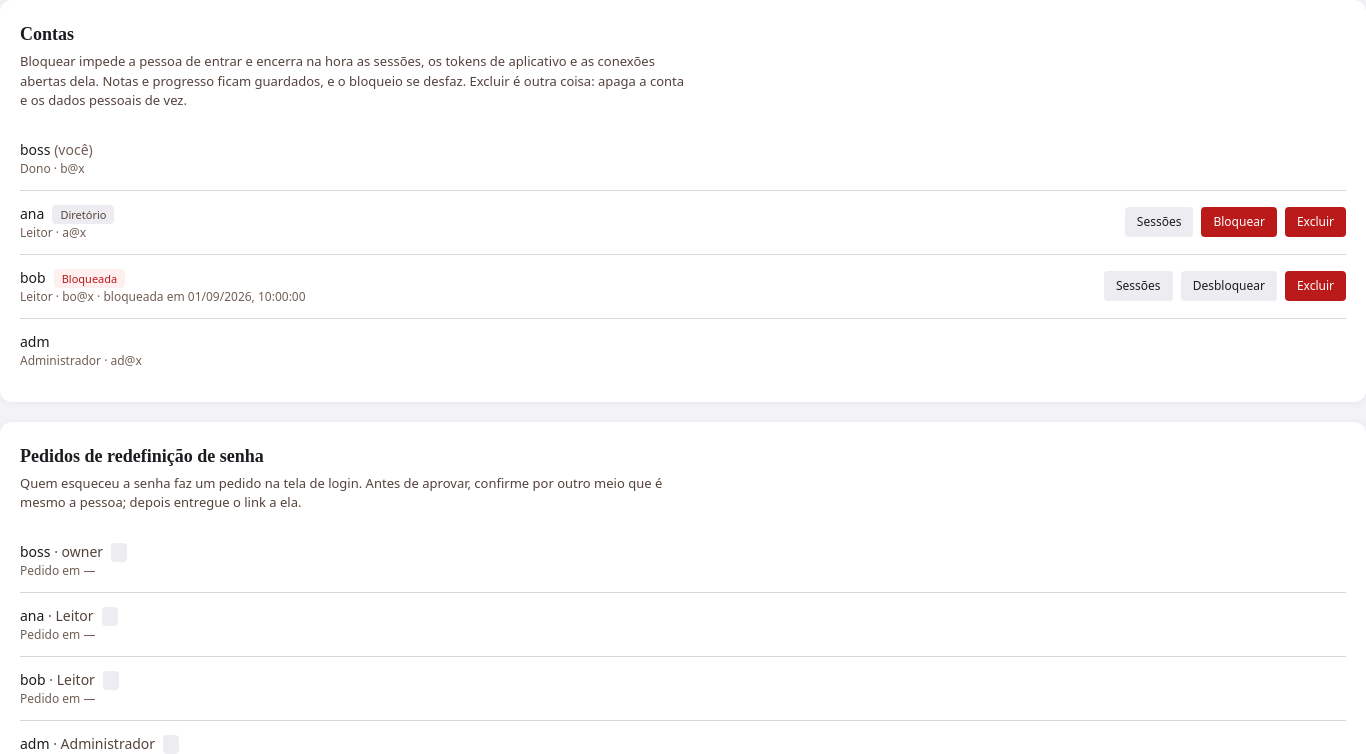
Test case: AccountsTab: the sessions of an account › ends one session after asking, saying that it does not block the person
Click the button with aria-label "Sessões de ana": coordinates (1159, 222) [1125,207,1193,237]
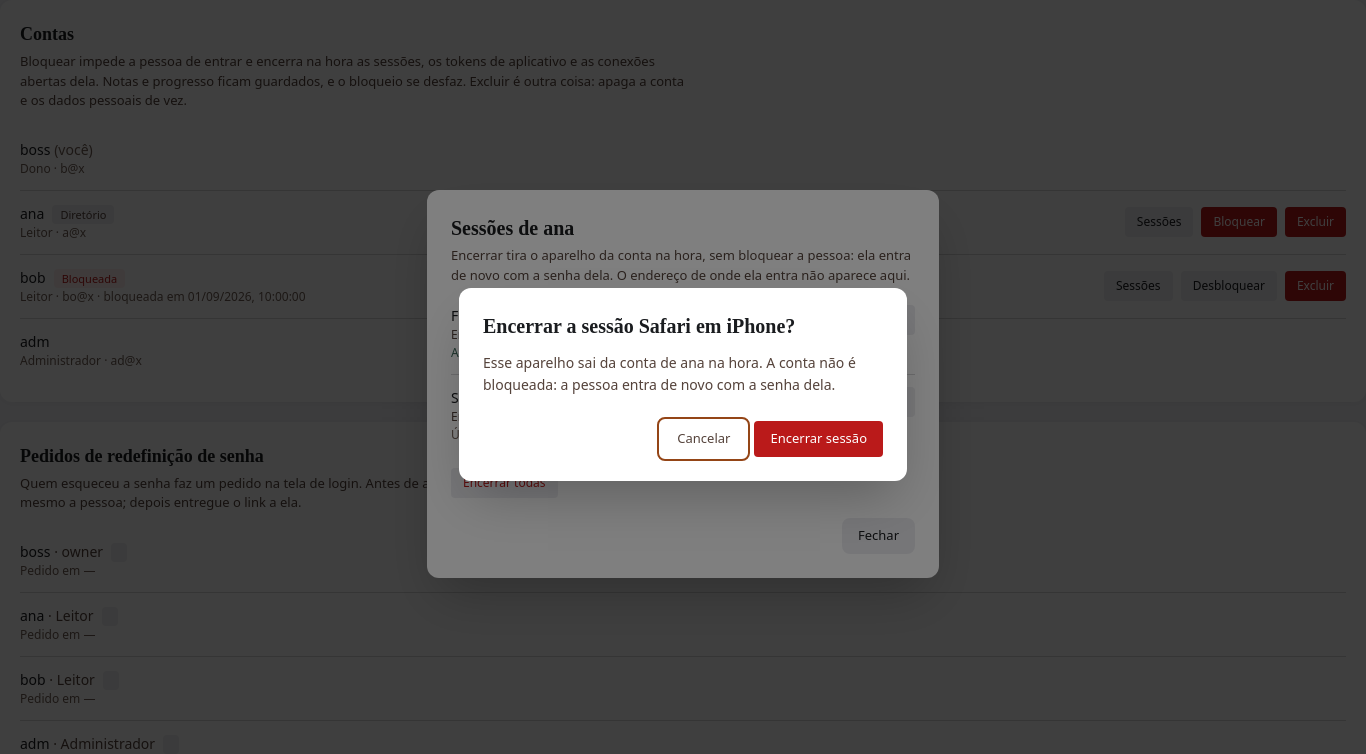
Now the dialog named "Encerrar a sessão Safari em iPhone?" shows "não é bloqueada", box [483,352,856,394]
Click the button "Encerrar sessão": coordinates (819, 439) [754,421,883,456]
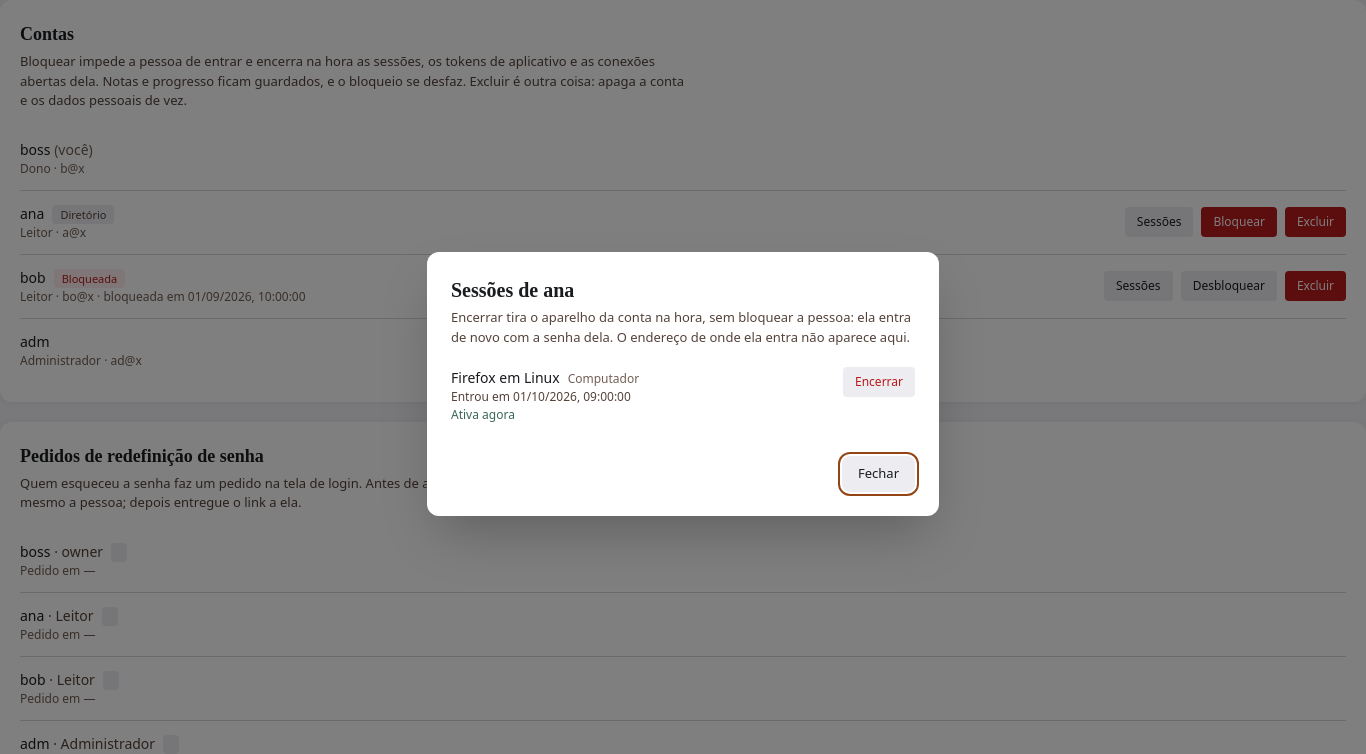
Now the text "Safari em iPhone" is gone
